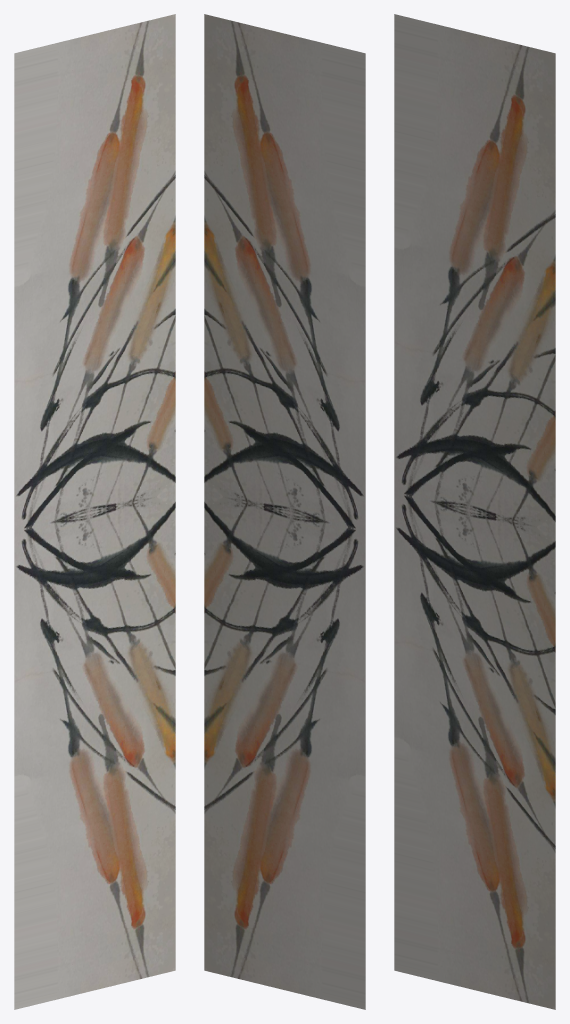
File: PPX_REED1.fbx
The picture shows the model from 3 angles, left to right: view 1: azimuth 30°, elevation 25°; view 2: azimuth 150°, elevation 25°; view 3: azimuth 330°, elevation 25°; orthographic projection.
Parts seen in each view (by area): view 1: 图层 13.png, 图层 13.png_2; view 2: 图层 13.png, 图层 13.png_2; view 3: 图层 13.png, 图层 13.png_2.
Boxes of the visible parts, bbox=[...] form: 图层 13.png: bbox=[14, 14, 175, 531]; 图层 13.png_2: bbox=[14, 492, 175, 1009]; 图层 13.png: bbox=[204, 14, 365, 531]; 图层 13.png_2: bbox=[204, 492, 365, 1009]; 图层 13.png: bbox=[394, 14, 555, 531]; 图层 13.png_2: bbox=[394, 492, 555, 1009].
Bounding box in the file's own units: 74.89 × 0 × 424.
1 material, 1 textured.
